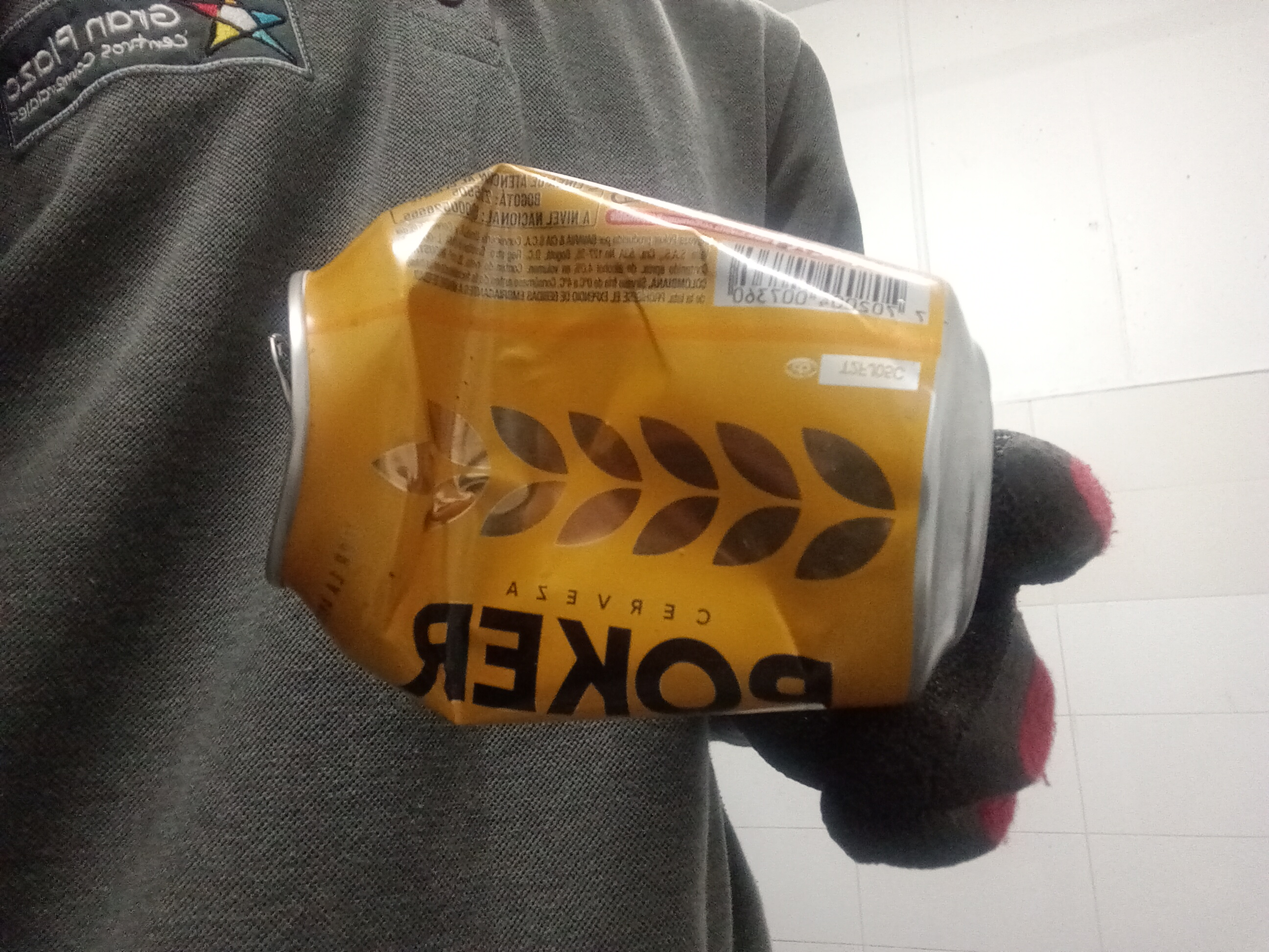Metal: (261, 161, 996, 734)
